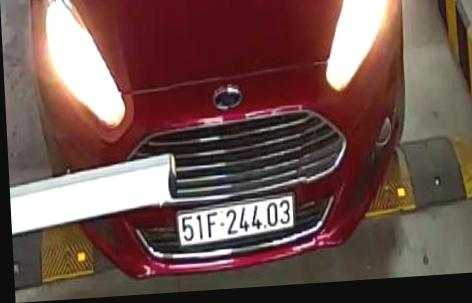License_Plate: (167, 194, 302, 252)
